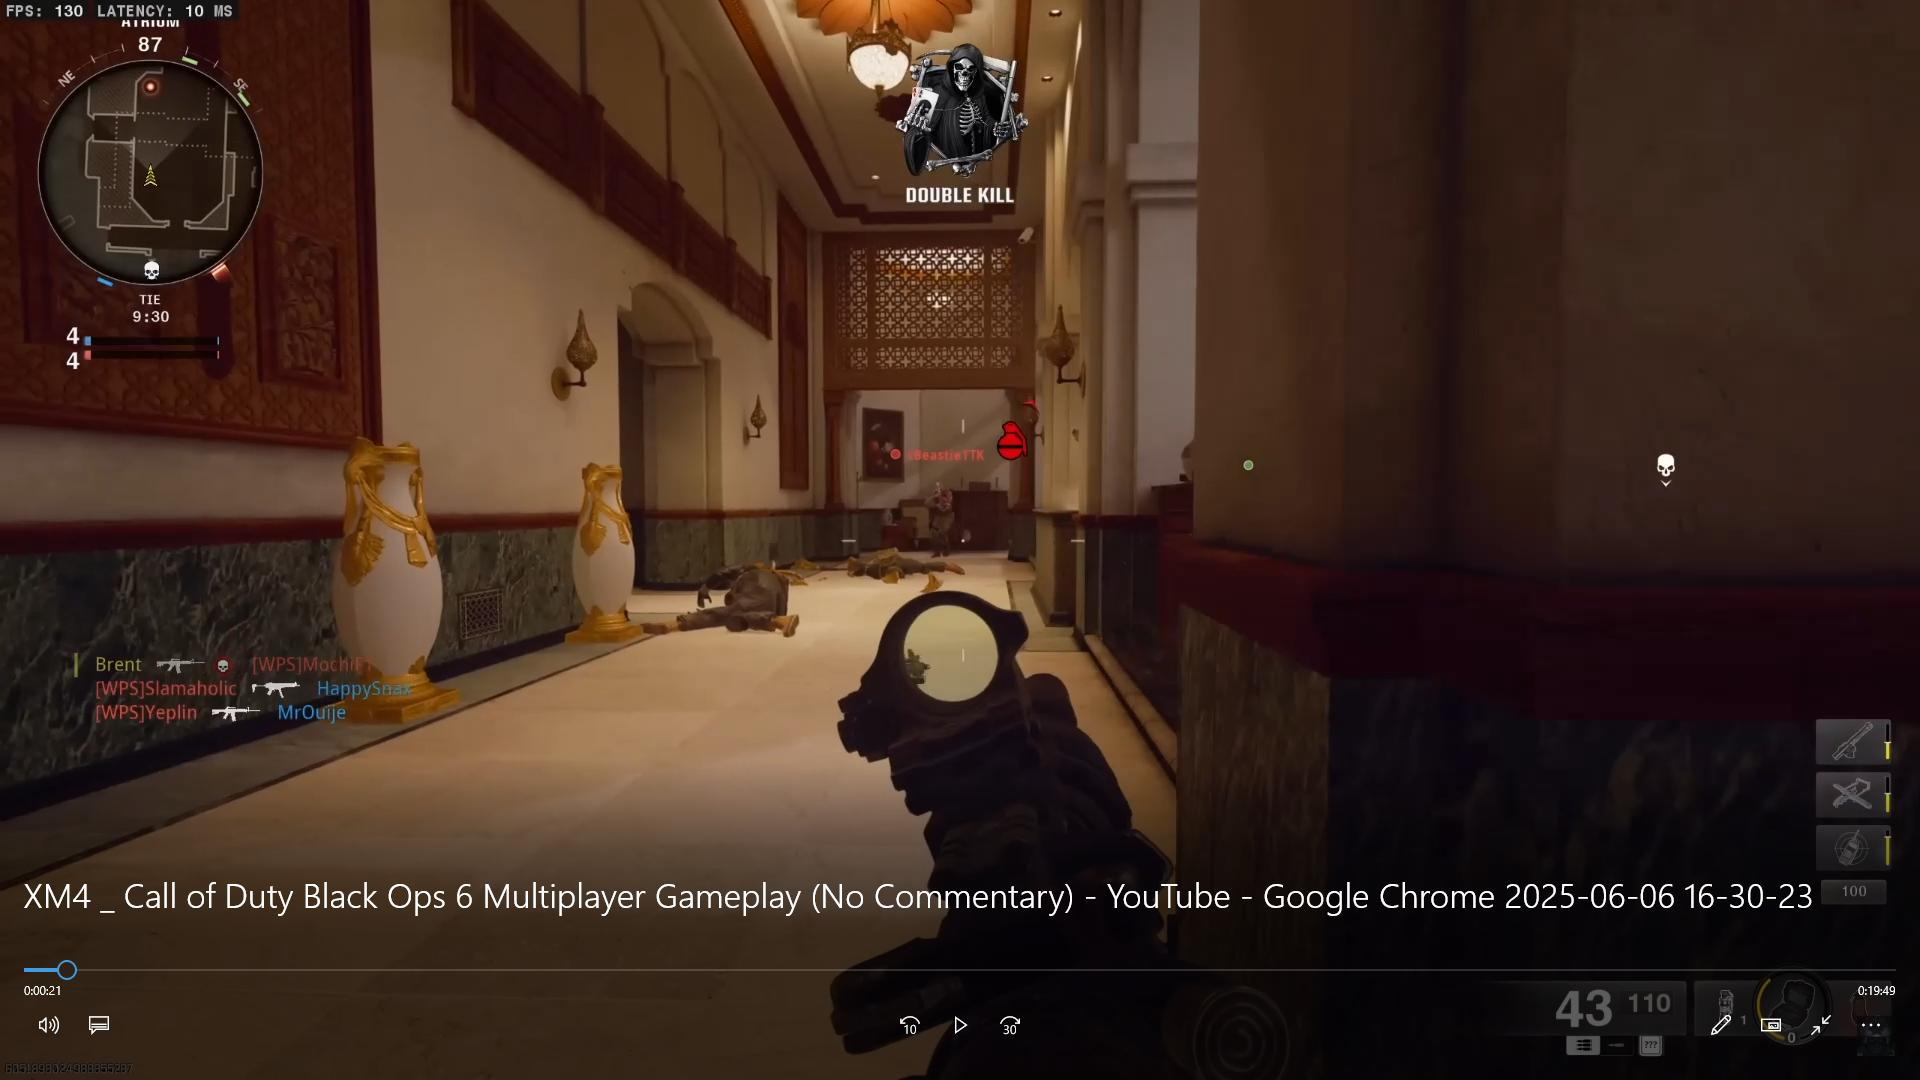Enemy: (913, 475, 972, 547)
